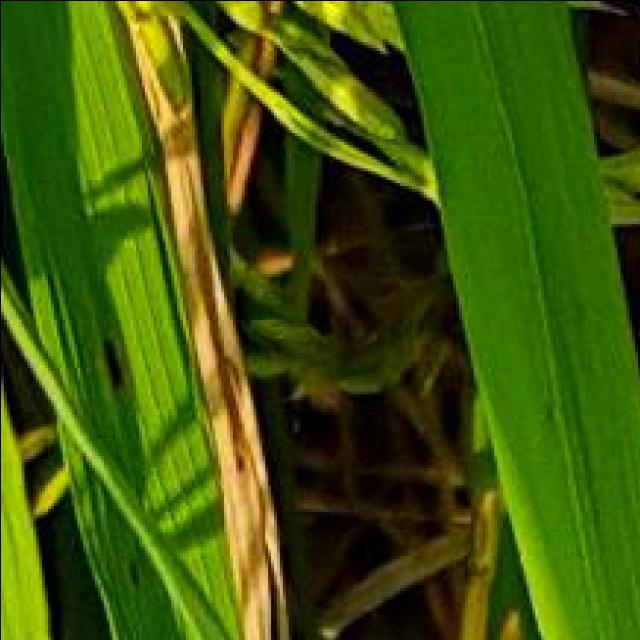Bacterial_Leaf_Blight: (147, 56, 282, 640)
